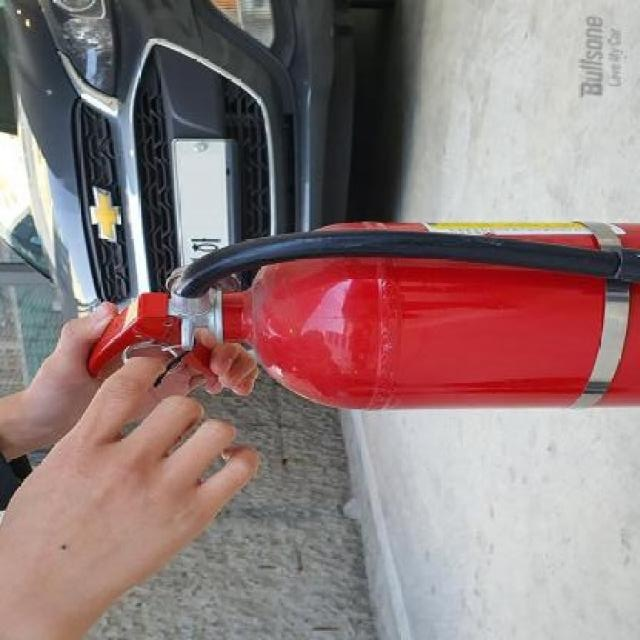fire extinguisher: (87, 221, 640, 412)
